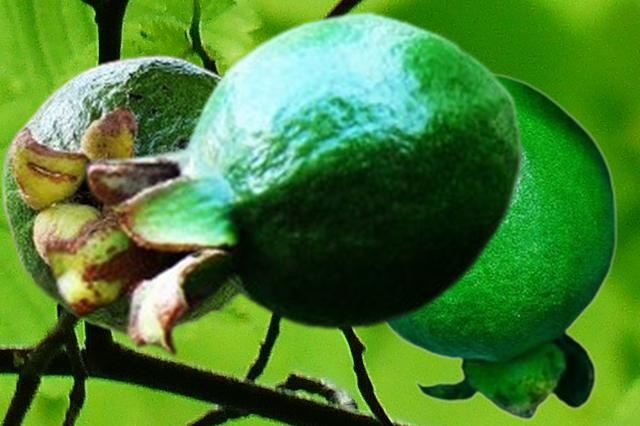guava: (43, 9, 523, 356), (386, 72, 617, 419), (0, 54, 241, 337)
